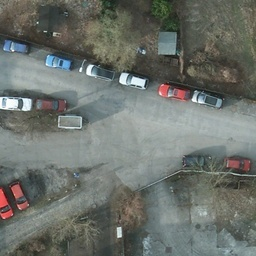car: (157, 80, 192, 100), (1, 186, 19, 220), (2, 38, 31, 58), (194, 88, 223, 108), (120, 71, 147, 92), (1, 94, 32, 112), (83, 63, 115, 80), (45, 53, 75, 70), (11, 180, 28, 209), (35, 98, 66, 113), (182, 153, 214, 167), (225, 158, 250, 171)
